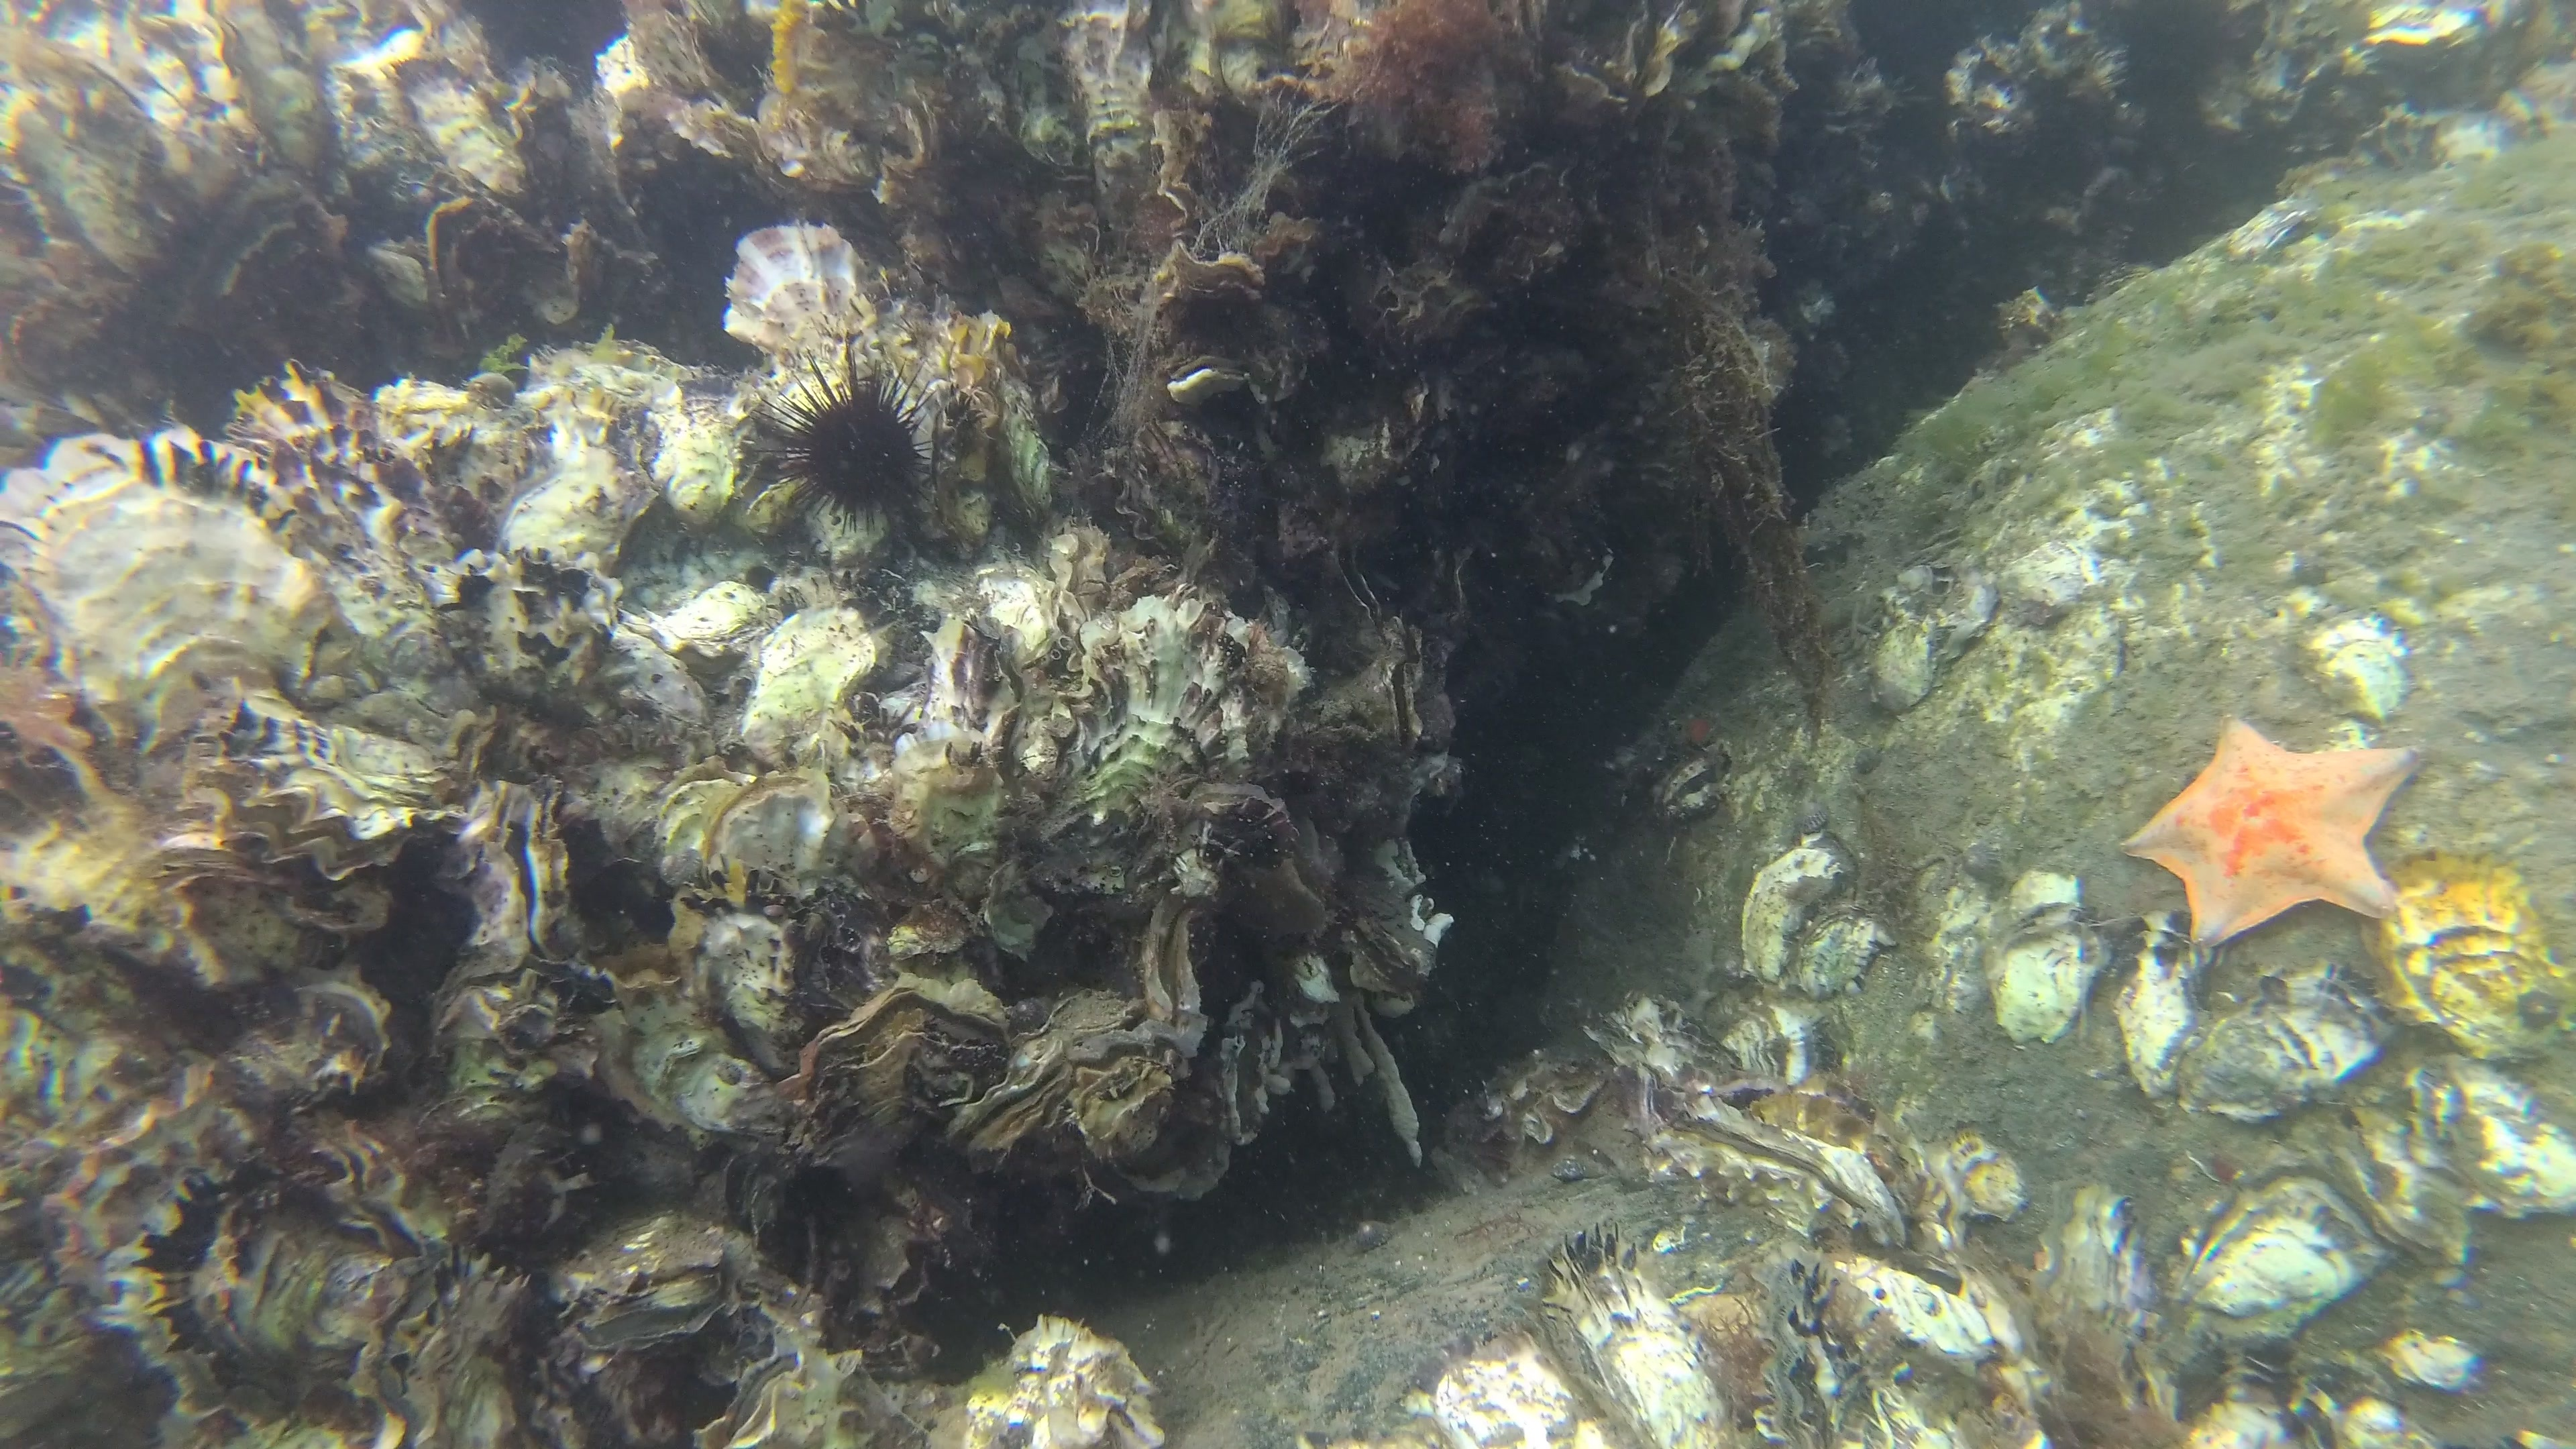echinus: (747, 357, 941, 540)
starfish: (2121, 713, 2415, 966)
